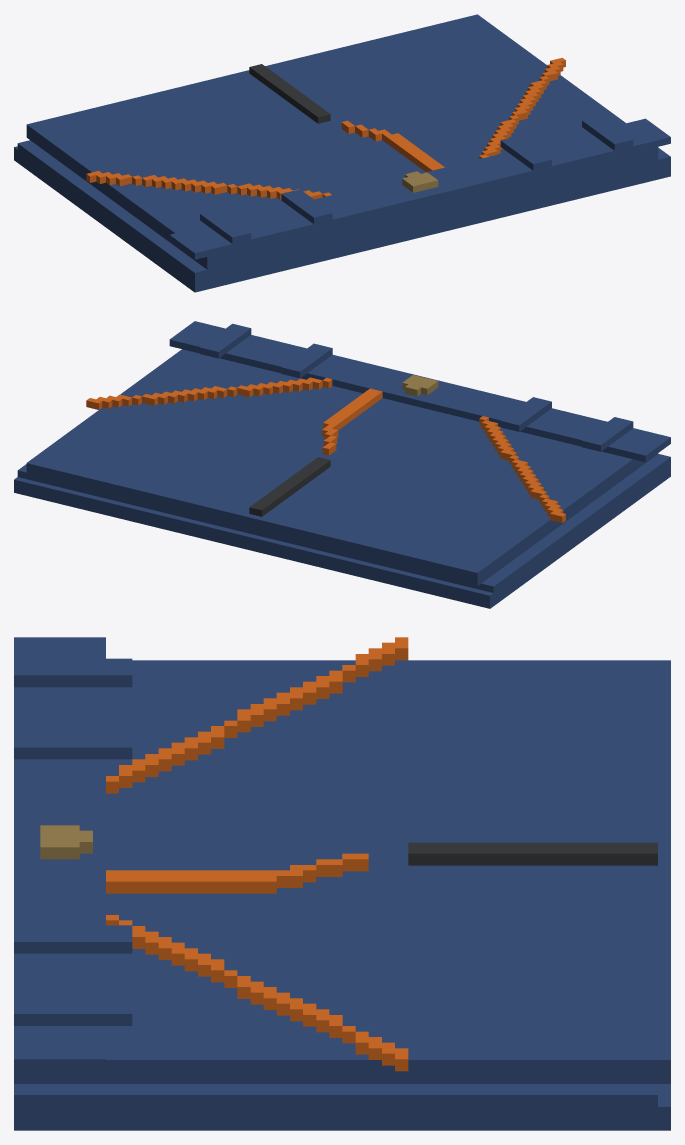
The model's file is hot_pants.glb.
3 views of the same model, one above another, from view 1: azimuth 30°, elevation 25°; view 2: azimuth 150°, elevation 25°; view 3: azimuth 270°, elevation 25° (orthographic). The views are drawn at different scales.
Parts seen in each view (by area): view 1: hot_pants:compound; view 2: hot_pants:compound; view 3: hot_pants:compound.
Part boxes in pixels (<box>): hot_pants:compound: <box>14,14,670,292</box>; hot_pants:compound: <box>14,321,670,608</box>; hot_pants:compound: <box>14,637,670,1130</box>.
Size of the model in its own units: 0.304 by 0.028 by 0.2.
